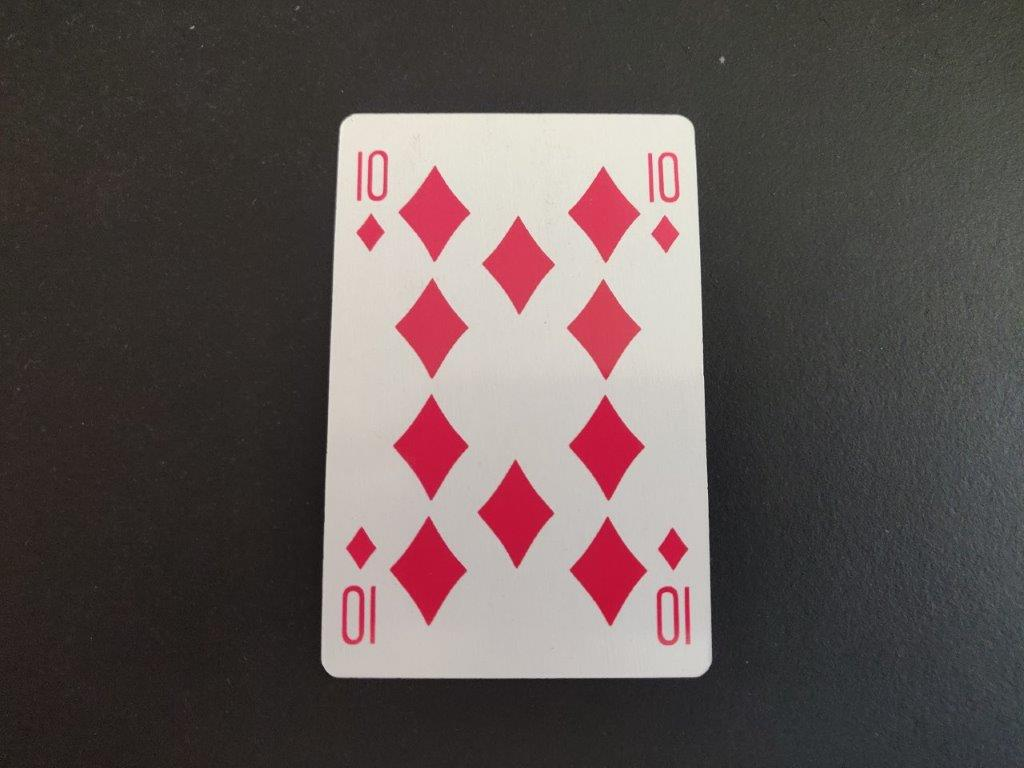10D: (346, 145, 393, 257), (642, 148, 687, 258)
